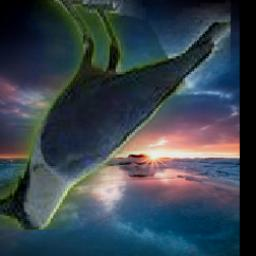Crow: (0, 0, 232, 230)
